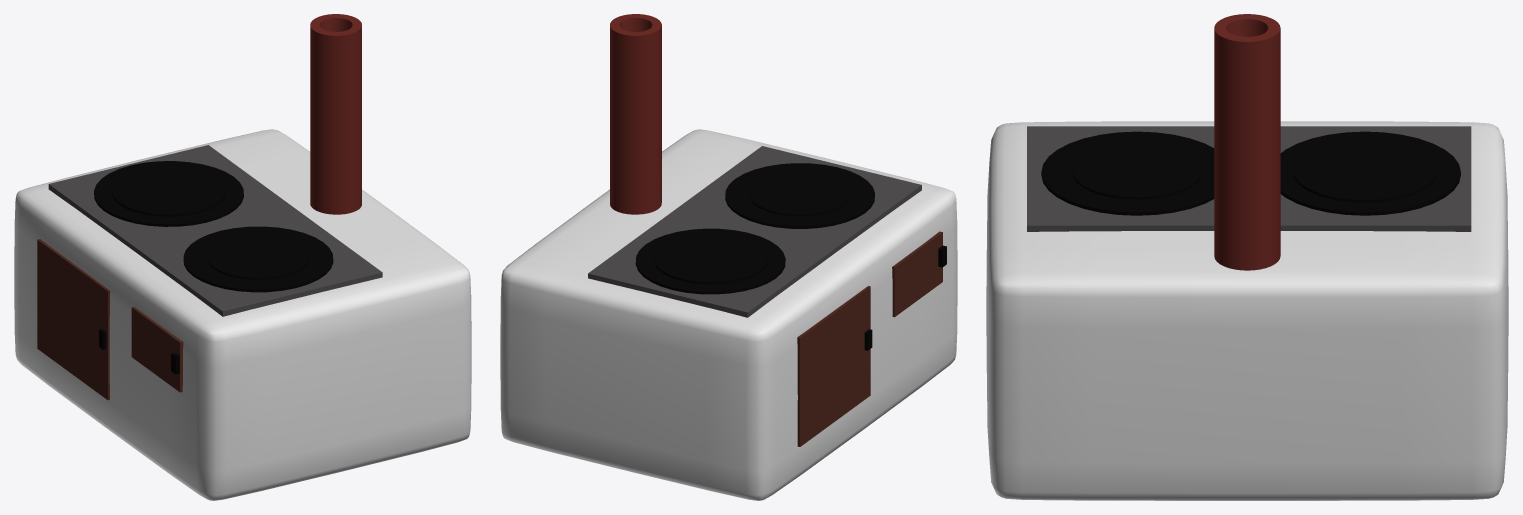
Rendered from fogon.fbx.
3 views of the same model, side by side, from view 1: azimuth 30°, elevation 25°; view 2: azimuth 150°, elevation 25°; view 3: azimuth 270°, elevation 25° (orthographic). The views are drawn at different scales.
Parts seen in each view (by area): view 1: Cube.001, Cube.004, Cylinder, Cube.002, Circle.002, Circle.001, Circle.003, Circle, Cube.003; view 2: Cube.001, Cube.004, Cylinder, Cube.002, Circle.002, Circle.001, Circle.003, Circle, Cube.003; view 3: Cube.001, Cylinder, Cube.004, Circle.002, Circle.001, Circle.003, Circle.
Boxes of the visible parts, left/top/right/bottom form: Cube.001: left=14, top=129, right=471, bottom=500; Cube.004: left=48, top=145, right=382, bottom=316; Cylinder: left=310, top=14, right=361, bottom=214; Cube.002: left=37, top=239, right=110, bottom=400; Circle.002: left=112, top=166, right=225, bottom=216; Circle.001: left=183, top=226, right=333, bottom=292; Circle.003: left=207, top=235, right=309, bottom=279; Circle: left=94, top=161, right=243, bottom=226; Cube.003: left=131, top=307, right=183, bottom=392; Cube.001: left=500, top=129, right=957, bottom=500; Cube.004: left=588, top=146, right=921, bottom=317; Cylinder: left=610, top=14, right=661, bottom=214; Cube.002: left=797, top=286, right=870, bottom=446; Circle.002: left=653, top=234, right=767, bottom=284; Circle.001: left=725, top=163, right=874, bottom=228; Circle.003: left=749, top=171, right=851, bottom=216; Circle: left=635, top=228, right=785, bottom=294; Cube.003: left=892, top=231, right=942, bottom=317; Cube.001: left=986, top=121, right=1508, bottom=500; Cylinder: left=1214, top=14, right=1280, bottom=270; Cube.004: left=1027, top=126, right=1471, bottom=231; Circle.002: left=1292, top=138, right=1437, bottom=202; Circle.001: left=1041, top=131, right=1214, bottom=215; Circle.003: left=1072, top=142, right=1202, bottom=199; Circle: left=1280, top=131, right=1460, bottom=215.
Size of the model in its own units: 176 by 215 by 224.
